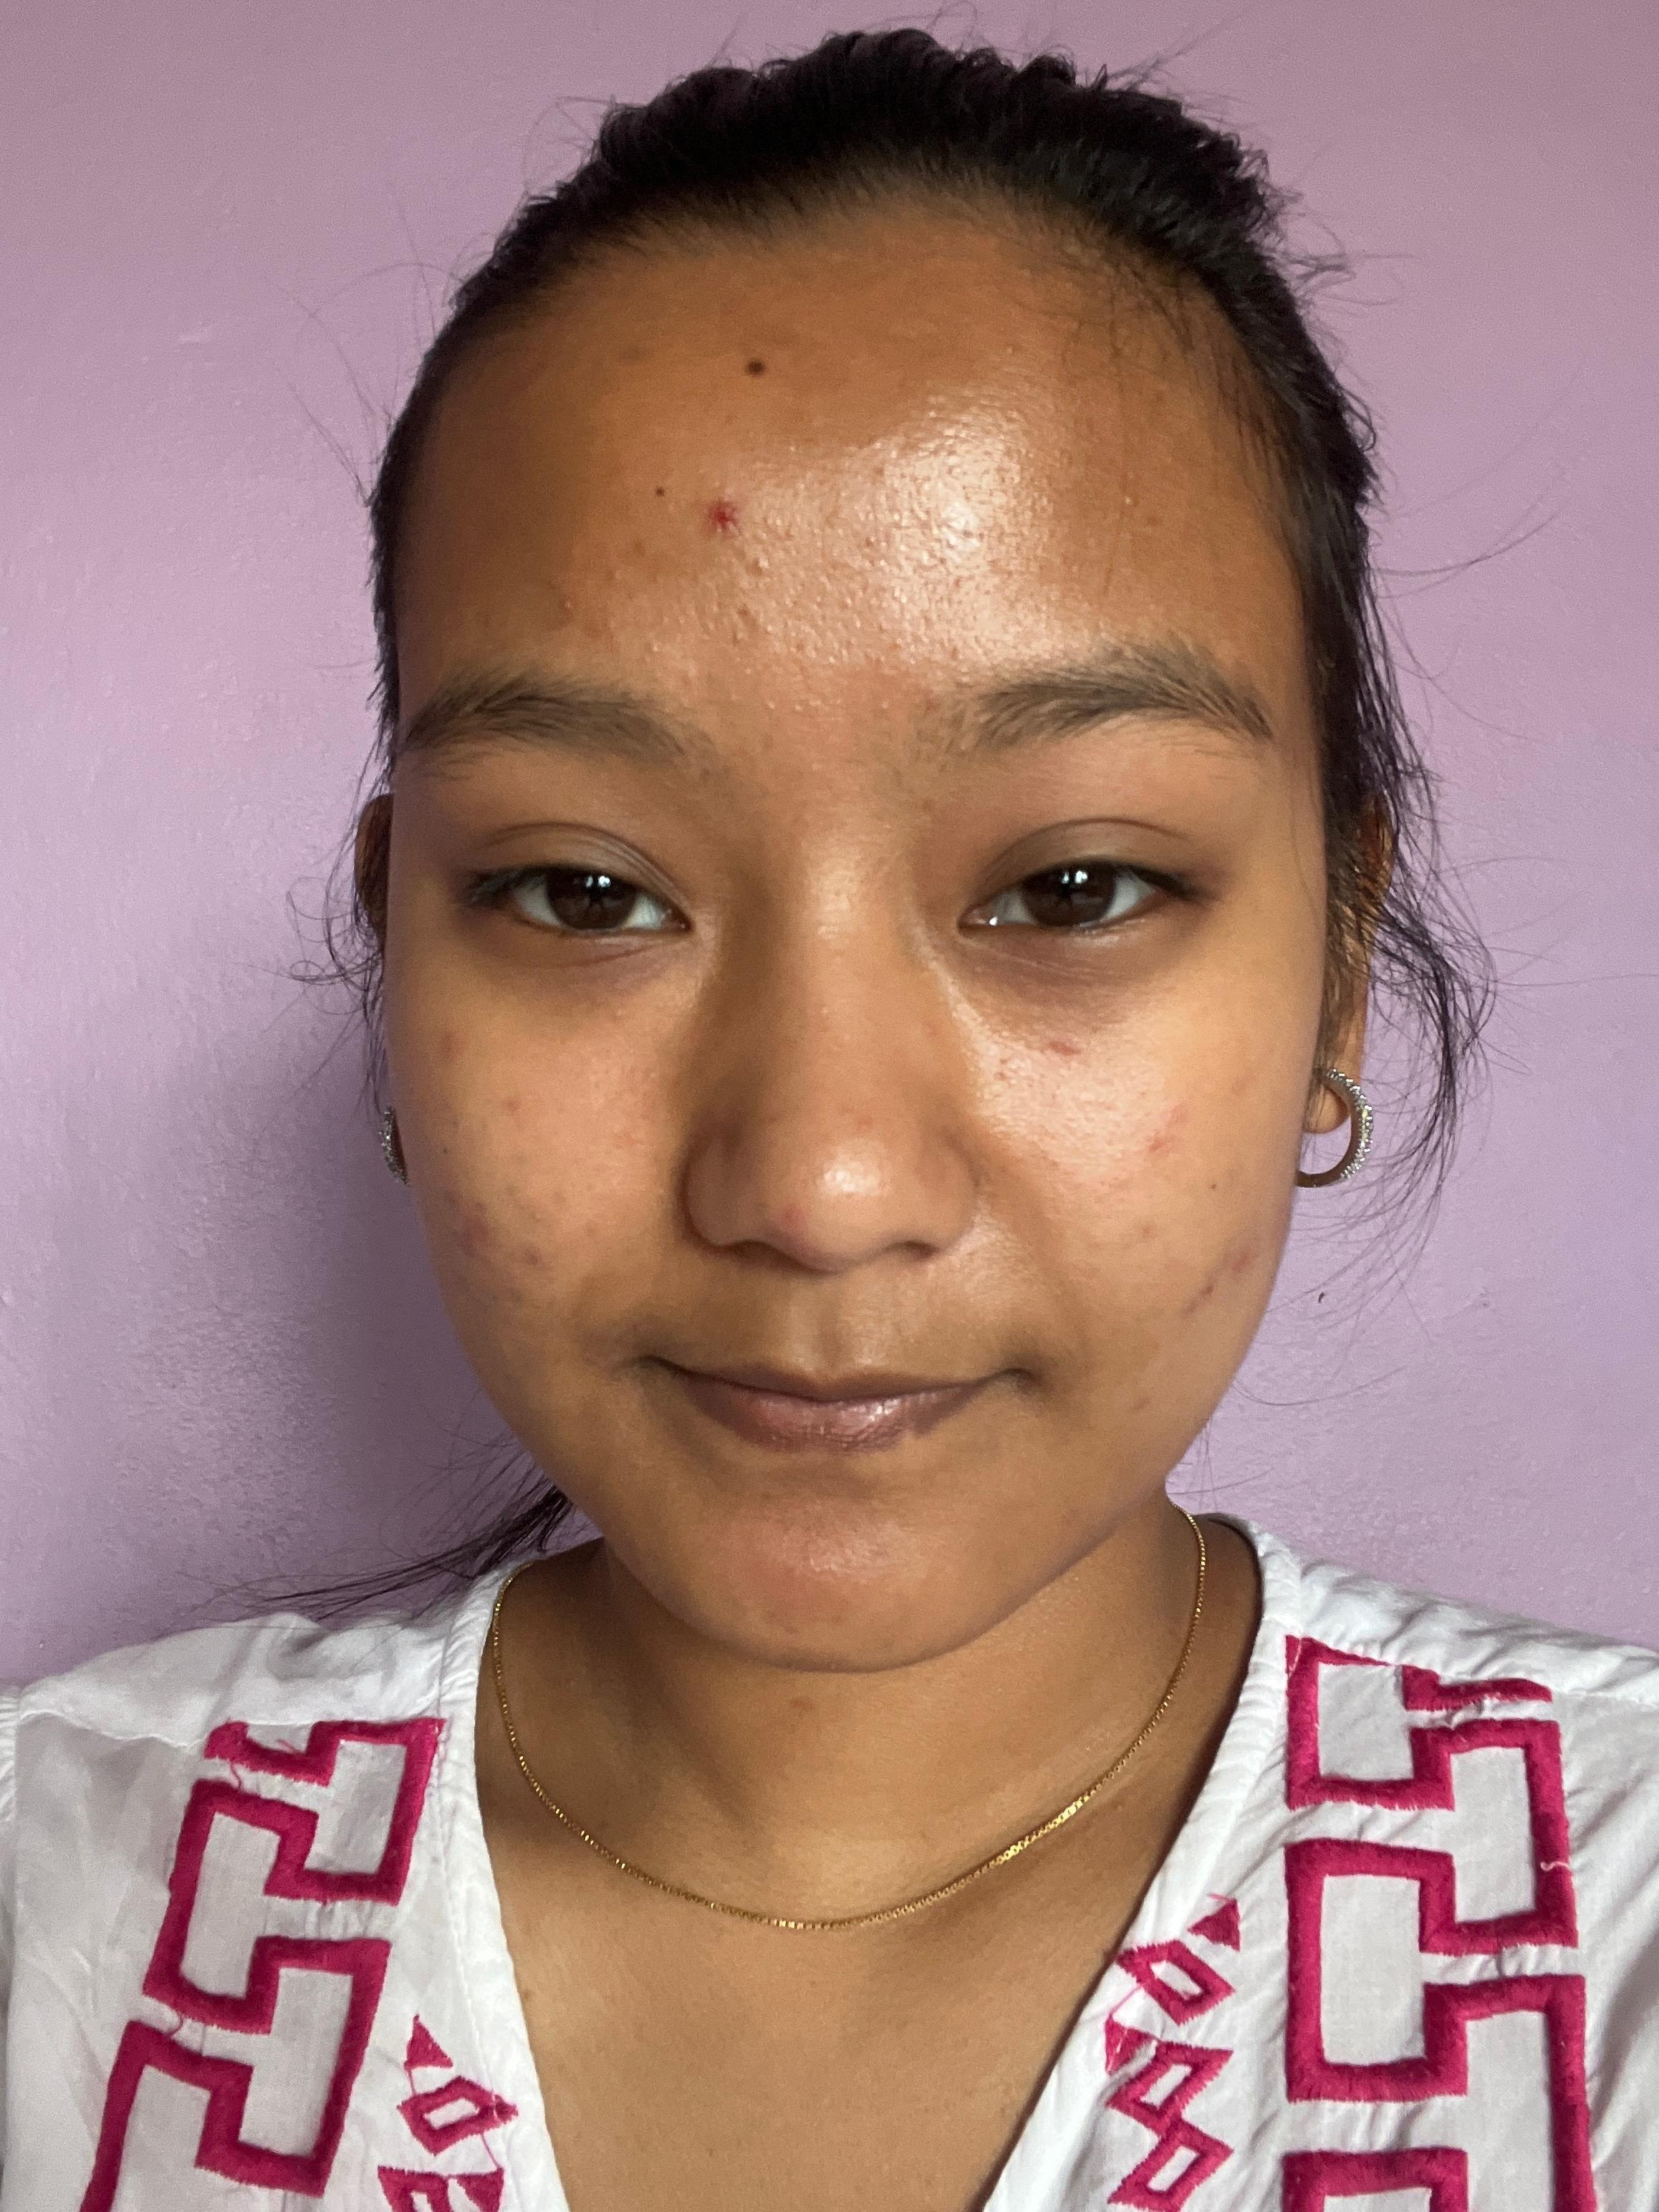Acne: (434, 1183, 547, 1315), (742, 1519, 845, 1618), (1178, 1235, 1260, 1315), (1136, 1097, 1195, 1157), (699, 489, 744, 540), (838, 1094, 878, 1139), (1035, 1029, 1084, 1064), (430, 1028, 471, 1068), (610, 1120, 650, 1158), (774, 1198, 814, 1233), (498, 1090, 528, 1127), (1105, 1165, 1134, 1200), (915, 1008, 939, 1050), (1126, 1386, 1154, 1423), (1133, 1217, 1162, 1247)
Blackheads: (551, 545, 978, 667), (751, 683, 903, 721)
